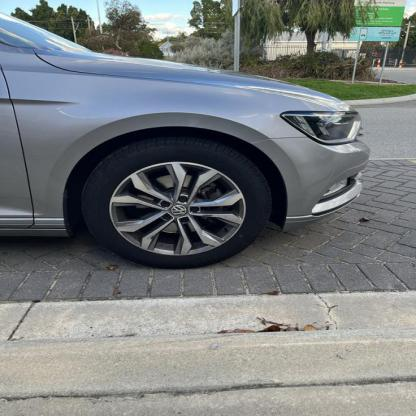Tire: (81, 138, 273, 270)
